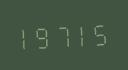five: (90, 18, 107, 47)
nine: (36, 21, 53, 50)
one: (18, 22, 35, 51), (72, 19, 89, 48)
seven: (54, 20, 71, 49)
